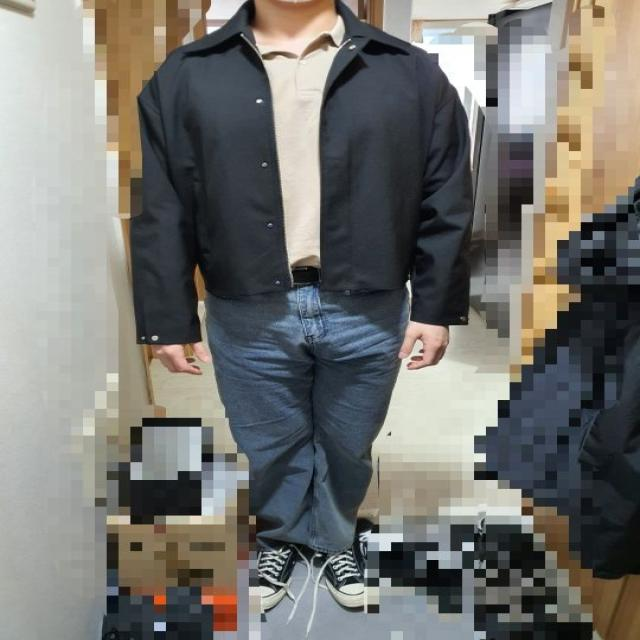denimpants: (202, 275, 406, 552)
jacket: (135, 0, 478, 344)
